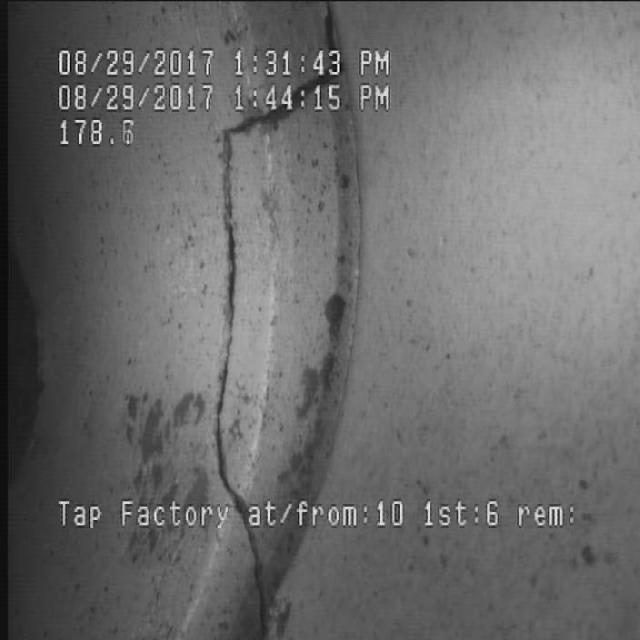Crack: (180, 145, 284, 460)
